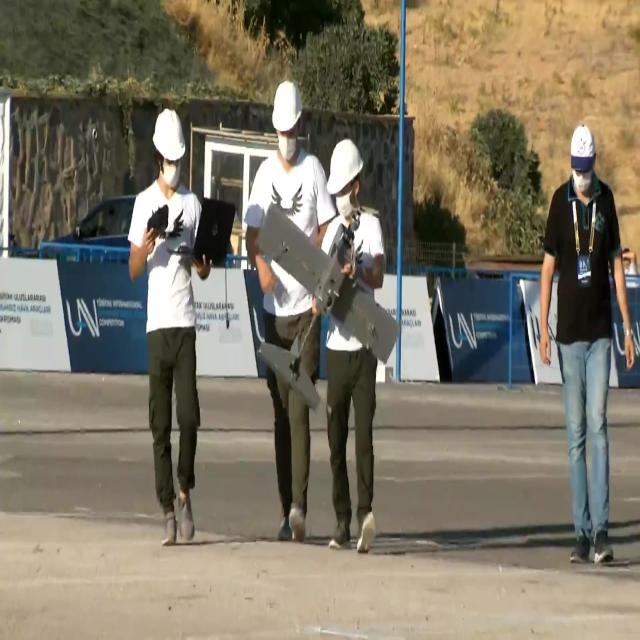iha: (248, 205, 397, 402)
